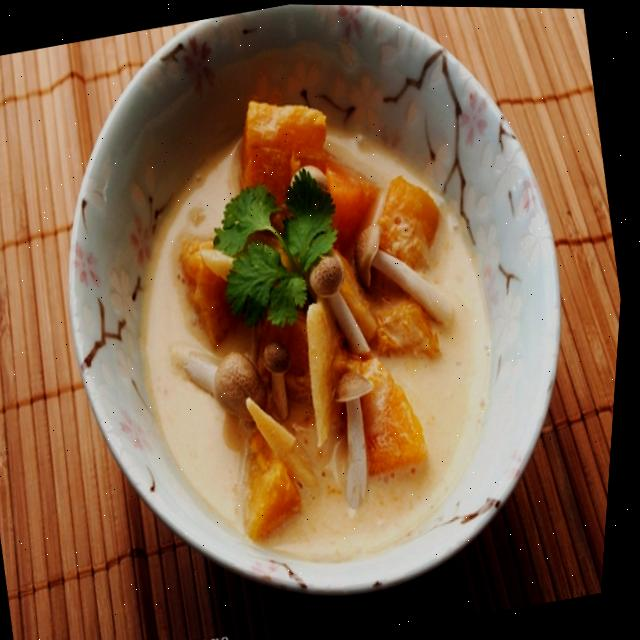汤锅炖物: (5, 0, 616, 640)
